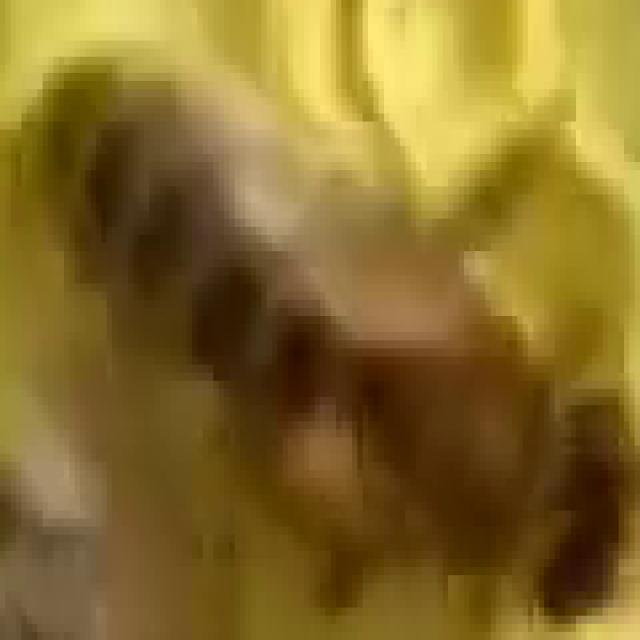honeybee: (19, 83, 602, 582)
